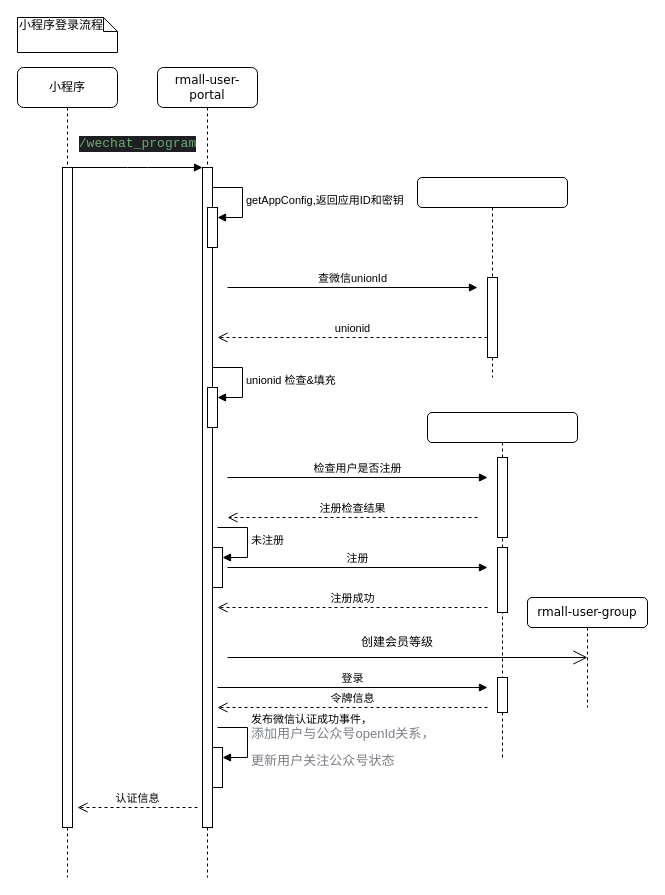
Some shapes in this 665 by 895 pixel diagram are drawn without their labels. Here are the shapes that lost their labels. From the top down, the centre of each, then its label:
(492,277): 微信开放平台 api.weixin.qq.com
(502,585): tx-user-base-service
